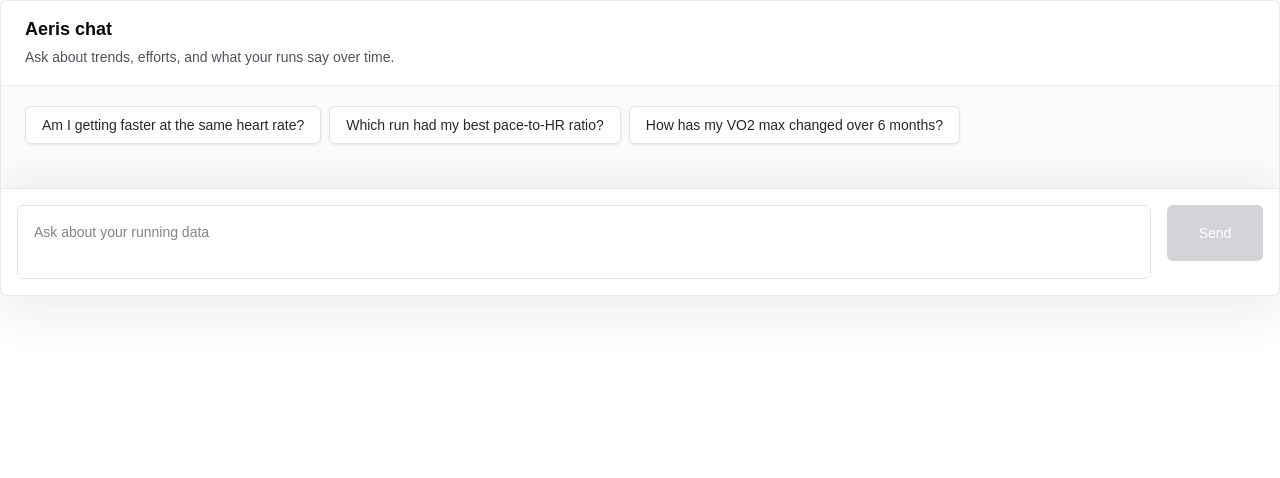
ChatPanel › submits a message and streams assistant deltas into the thread
Step 1. Type "Am I getting faster?" into the text box named "message" → (584, 242), box [17,205,1151,279]
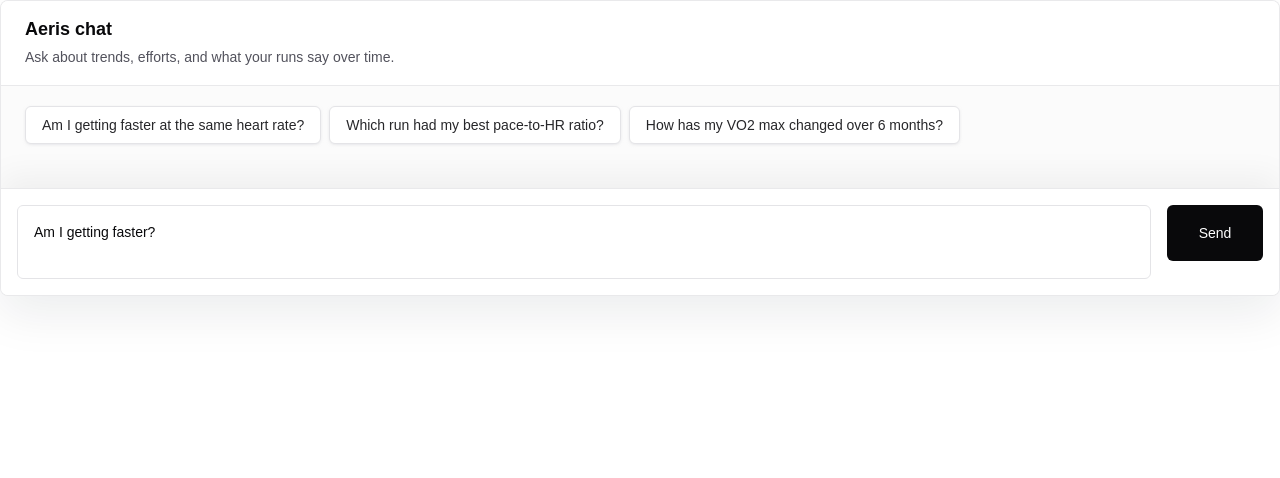
Step 2. Click the button "Send" → (1215, 233), box [1167,205,1263,261]
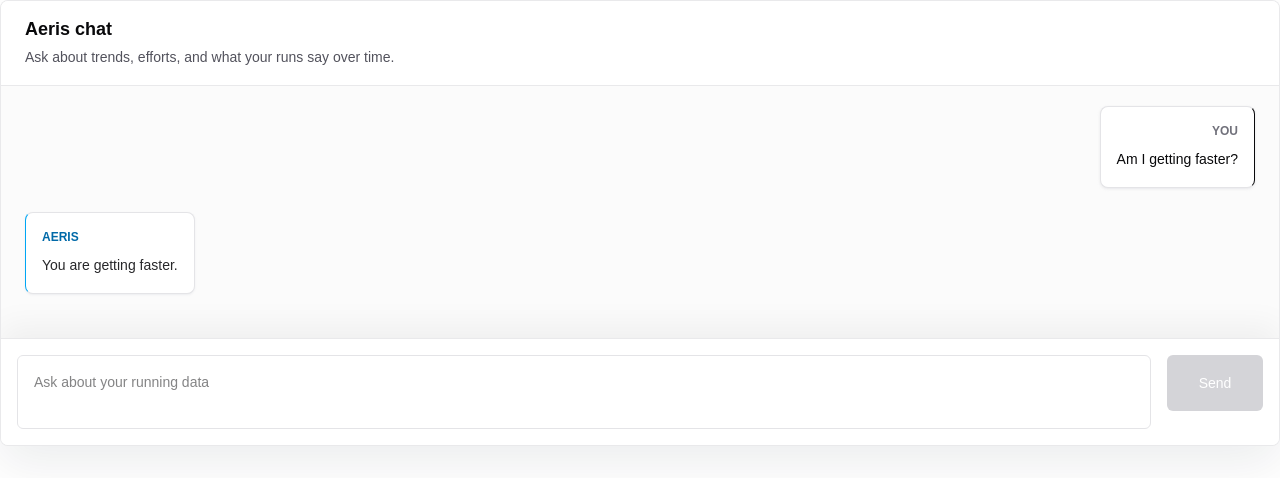
Result: the text "Am I getting faster?" is shown at [1117,147,1238,171]
Result: the text "You are getting faster." is shown at [42,253,178,277]
Result: the text "You" is shown at [1212,124,1238,138]
